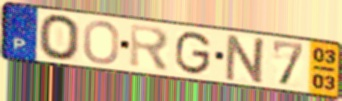7: (271, 38, 306, 88)
G: (172, 30, 213, 77)
N: (223, 33, 270, 86)
O: (37, 13, 82, 62), (82, 19, 122, 66)
R: (128, 22, 172, 74)
